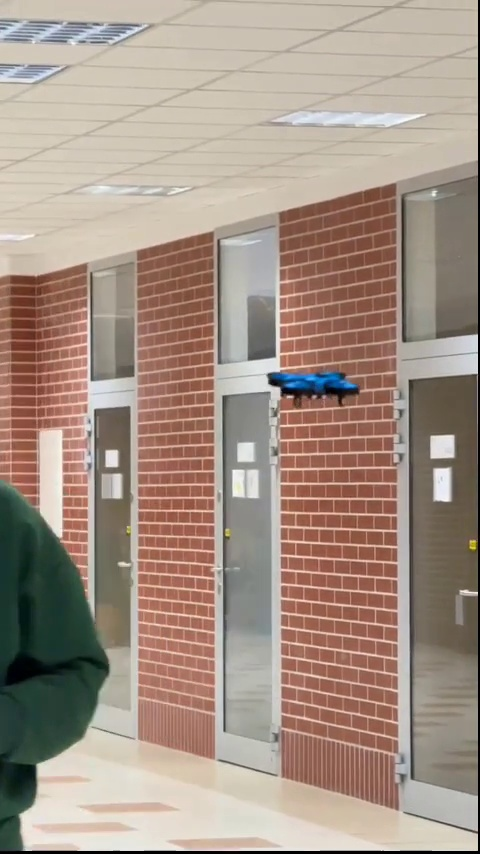drone: (265, 366, 355, 400)
